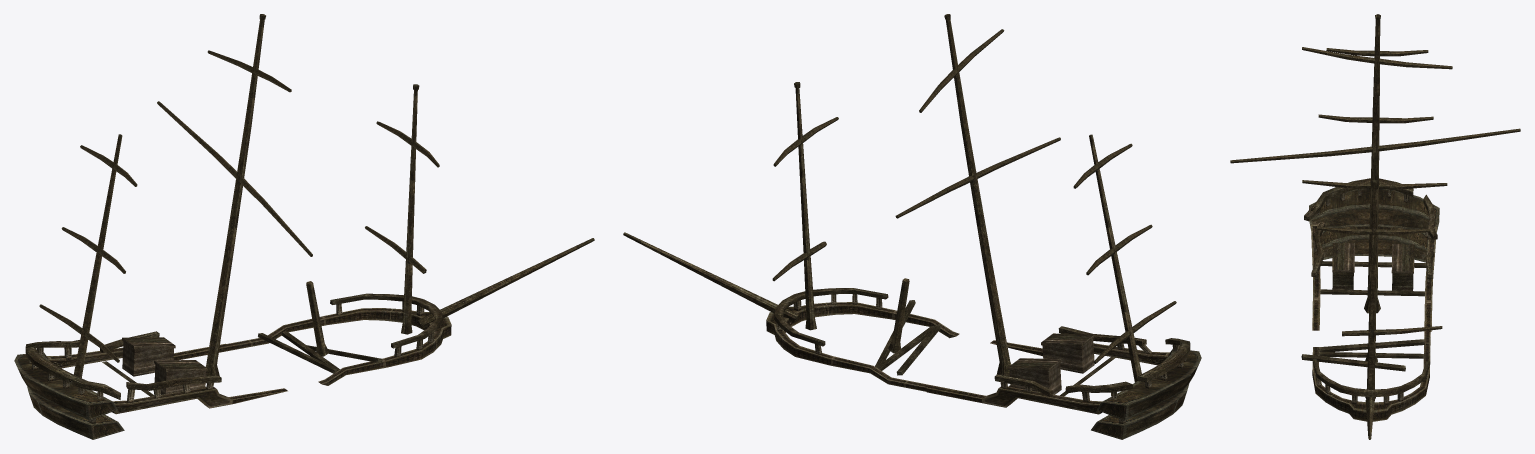
File: ships_brokenup00.glb
3 views of the same model, side by side, from view 1: azimuth 30°, elevation 25°; view 2: azimuth 150°, elevation 25°; view 3: azimuth 270°, elevation 25° (orthographic). The views are drawn at different scales.
Visible parts, largest first — view 1: fort_ship01_02, fort_ship02_02, fort_ship04_02; view 2: fort_ship01_02, fort_ship02_02, fort_ship04_02; view 3: fort_ship01_02, fort_ship04_02, fort_ship02_02.
Boxes of the visible parts, x1,y1,x2,y2 form: fort_ship01_02: [25, 14, 594, 400]; fort_ship02_02: [29, 301, 451, 423]; fort_ship04_02: [14, 352, 124, 439]; fort_ship01_02: [623, 14, 1190, 396]; fort_ship02_02: [766, 294, 1186, 423]; fort_ship04_02: [1091, 349, 1201, 439]; fort_ship01_02: [1230, 14, 1520, 439]; fort_ship04_02: [1309, 188, 1439, 262]; fort_ship02_02: [1311, 189, 1436, 421].
Bounding box in the file's own units: 48.57 × 29.41 × 23.44.
3 materials, 3 textured.
